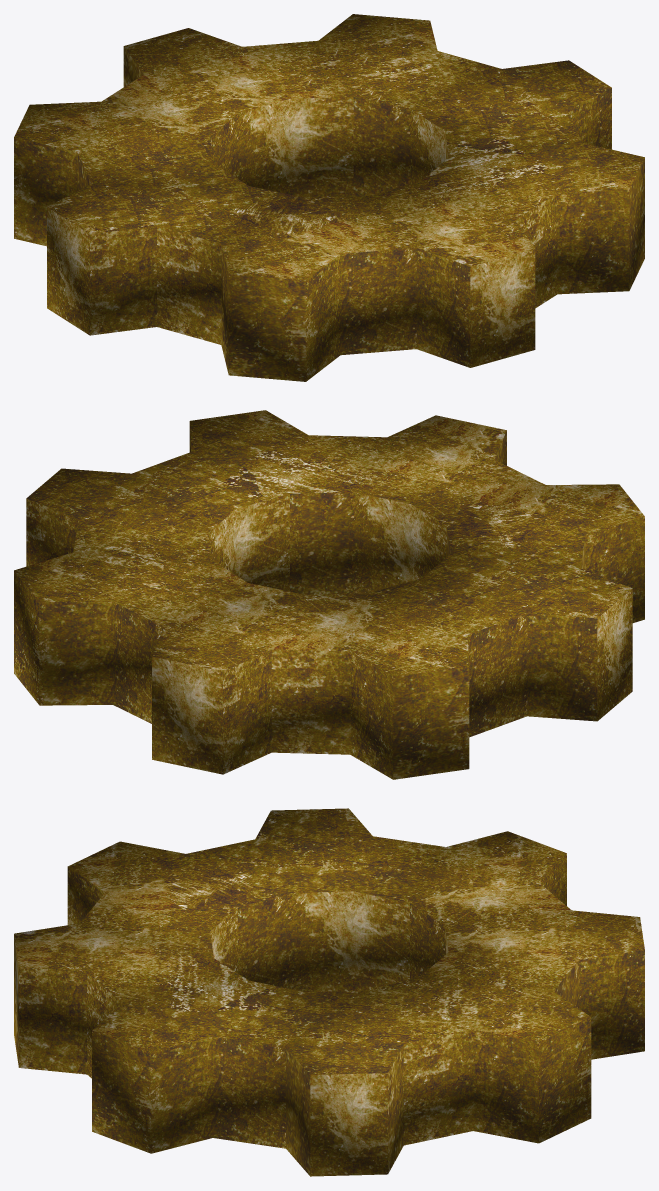
File: cog.gltf
3 views of the same model, one above another, from view 1: azimuth 30°, elevation 25°; view 2: azimuth 150°, elevation 25°; view 3: azimuth 270°, elevation 25° (orthographic).
Parts seen in each view (by area): view 1: Circle001; view 2: Circle001; view 3: Circle001.
Part boxes in pixels (x1,y1,x2,y2): Circle001: (14,14,644,381); Circle001: (14,410,644,779); Circle001: (14,808,644,1176).
Bounding box in the file's own units: 0.9323 × 0.1653 × 0.9323.
